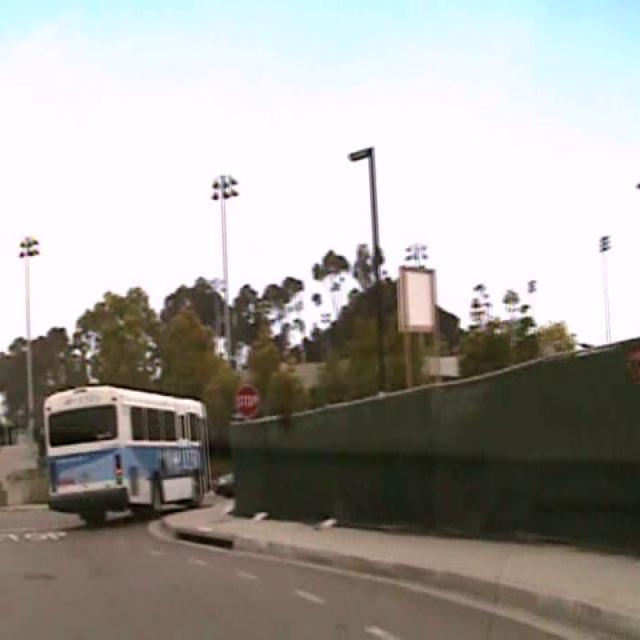stop: (235, 382, 259, 418)
